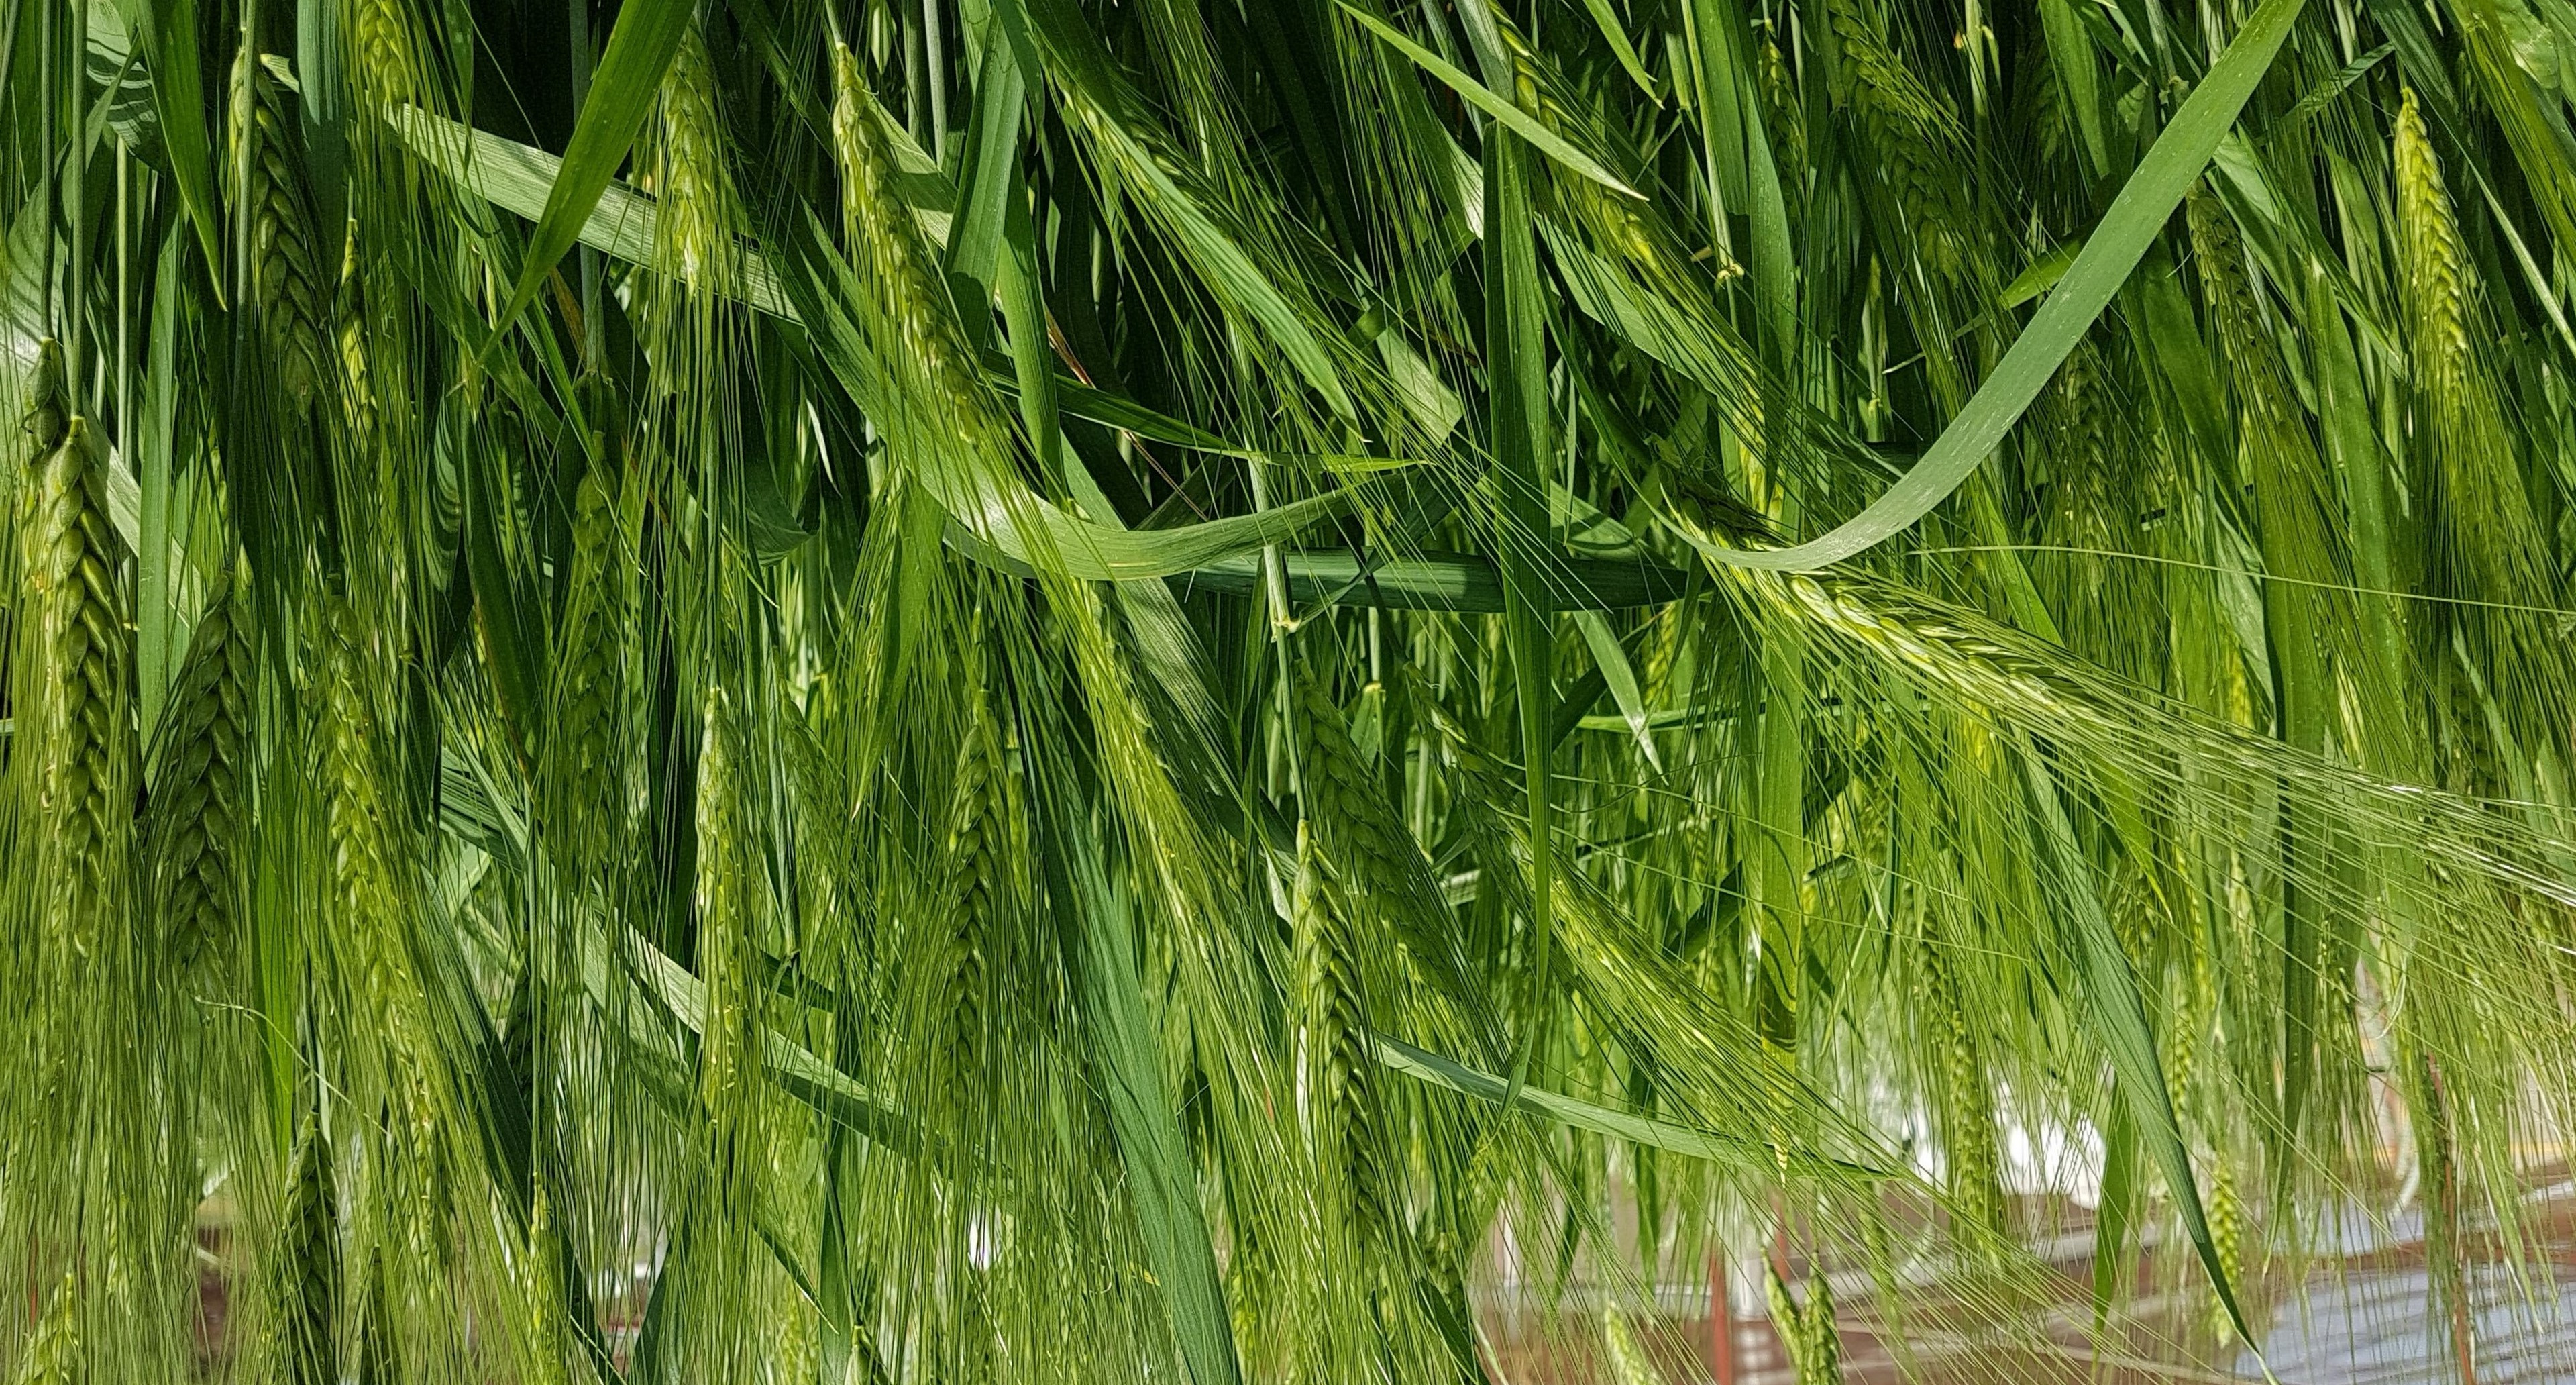Healthy Wheat: (1671, 493, 2148, 774), (810, 75, 1037, 471), (2383, 82, 2504, 440)
